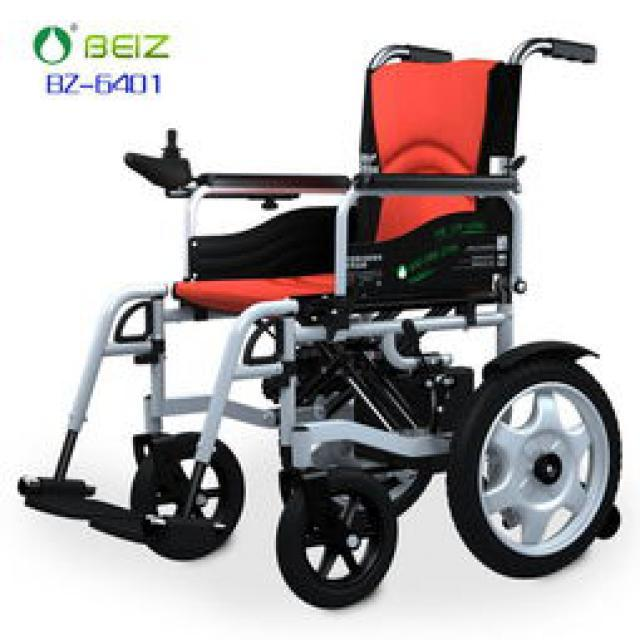wheelchair: (5, 28, 628, 626)
